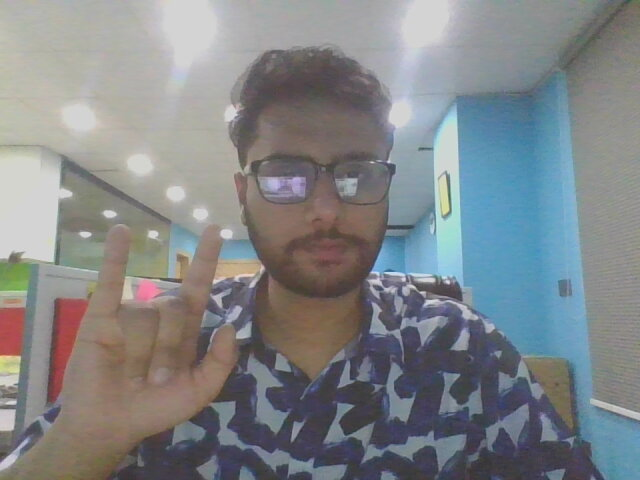iloveyou: (59, 220, 243, 435)
